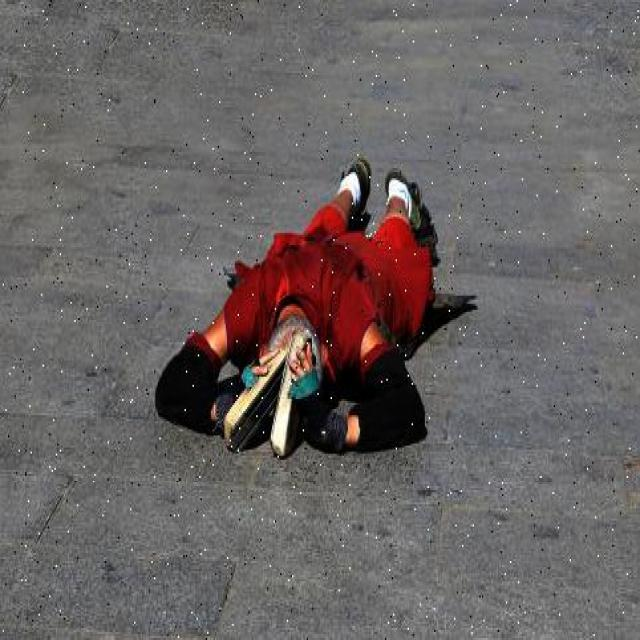fall: (172, 158, 440, 446)
